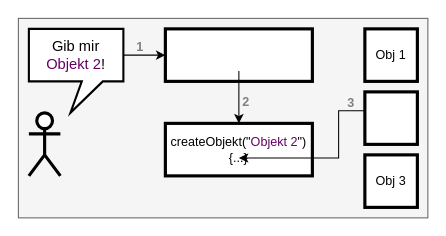
The diagram is 446 pixels wide and 236 high, and some of its shapes have lost their labels. Each missing label, with the centre of its shape:
getObjekt(" Objekt 2 ") {...}: (238,54)
Obj 2: (390,117)
